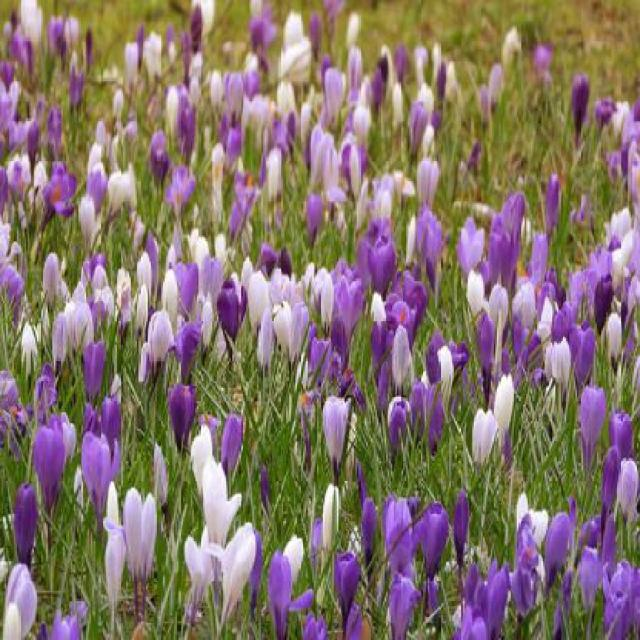Flower: (120, 478, 158, 590), (212, 271, 251, 357), (30, 419, 67, 506), (575, 381, 607, 474), (318, 388, 353, 472), (412, 146, 446, 217), (143, 301, 174, 377), (566, 67, 594, 142), (168, 375, 195, 451), (364, 236, 398, 296), (331, 543, 357, 617), (80, 334, 108, 401), (285, 294, 306, 377), (474, 314, 495, 394), (460, 208, 485, 275), (455, 490, 476, 568), (260, 307, 278, 384), (150, 122, 172, 182), (25, 116, 41, 169)
